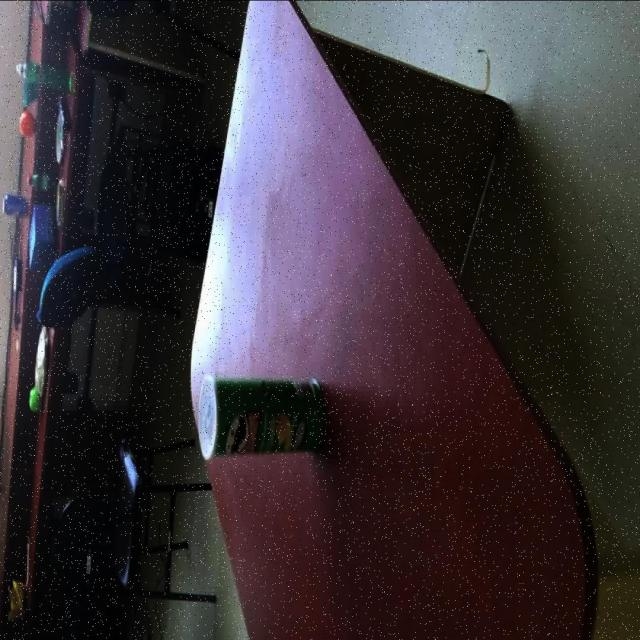Pringles: (197, 373, 324, 458)
